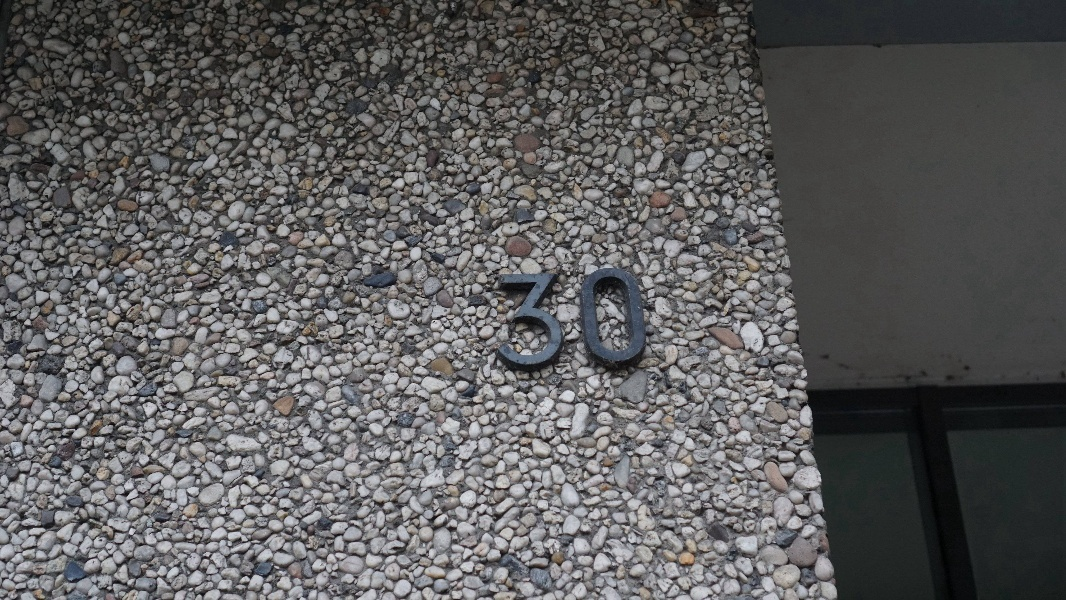text: (513, 268, 528, 370), (529, 268, 544, 370), (545, 268, 560, 370), (561, 268, 576, 370), (577, 268, 592, 370), (593, 268, 608, 370), (609, 268, 624, 370), (625, 268, 640, 370), (498, 268, 512, 370), (641, 268, 648, 370)
